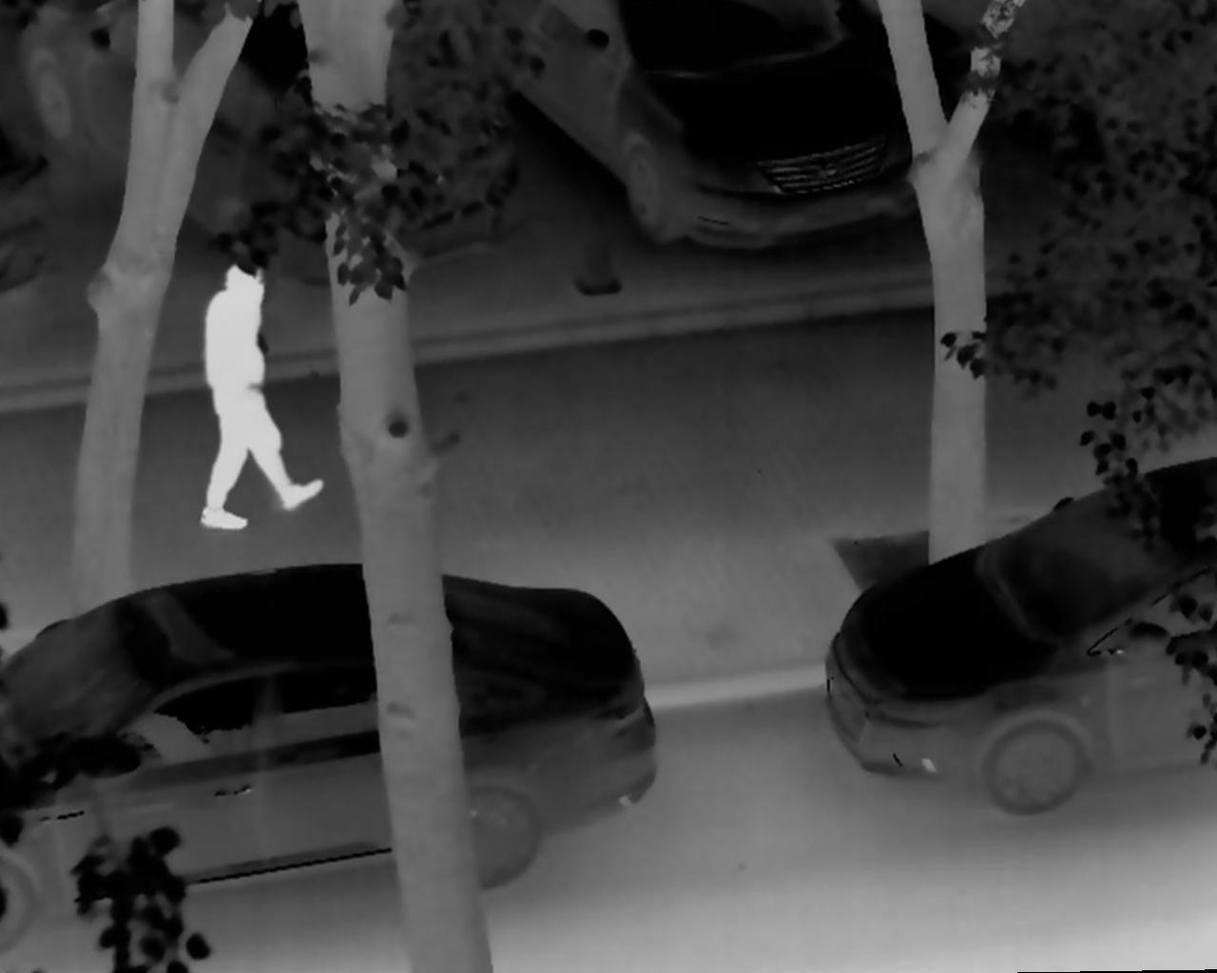person: (193, 259, 328, 536)
